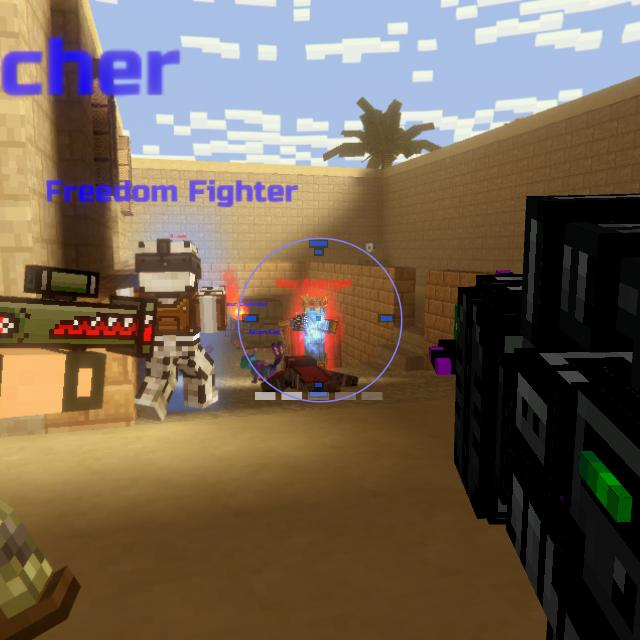Enemy: (290, 298, 339, 369)
